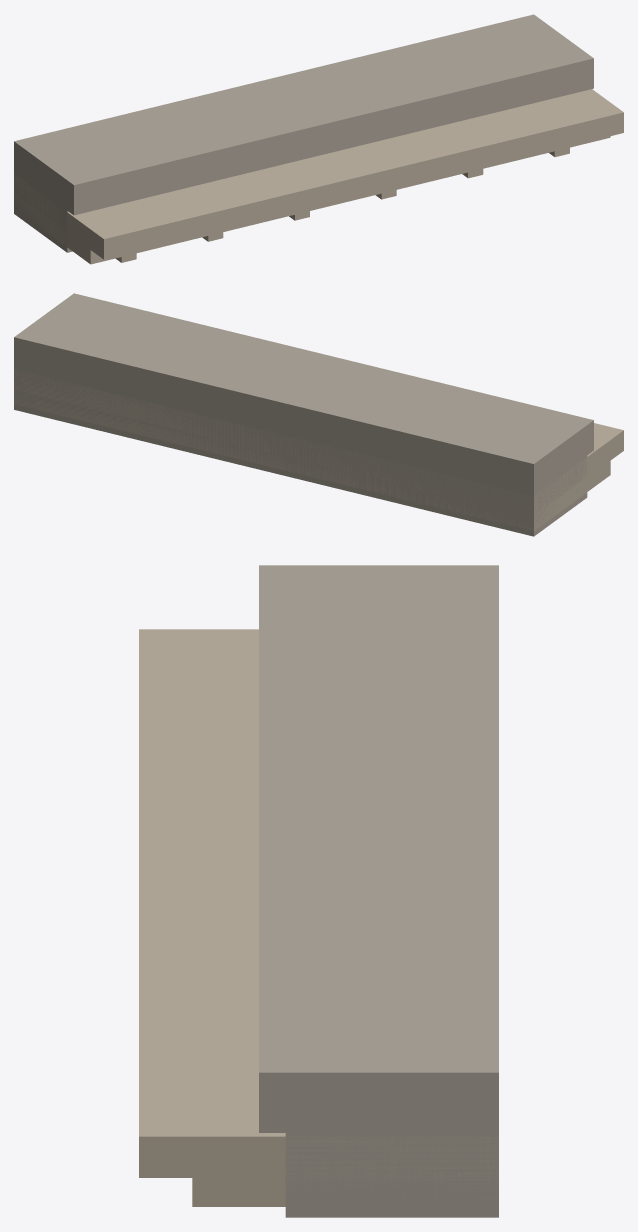
Rendered from cittaTortoraTetto.glb.
3 views of the same model, one above another, from view 1: azimuth 30°, elevation 25°; view 2: azimuth 150°, elevation 25°; view 3: azimuth 270°, elevation 25° (orthographic). The views are drawn at different scales.
Parts seen in each view (by area): view 1: cittaTortoraTetto_cittaTortora, cittaTortoraTetto_stone; view 2: cittaTortoraTetto_cittaTortora, cittaTortoraTetto_stone; view 3: cittaTortoraTetto_cittaTortora, cittaTortoraTetto_stone.
Boxes of the visible parts, box(x1,y1,x2,y2) form: cittaTortoraTetto_cittaTortora: box(14, 14, 593, 252); cittaTortoraTetto_stone: box(14, 89, 623, 264); cittaTortoraTetto_cittaTortora: box(14, 293, 593, 536); cittaTortoraTetto_stone: box(14, 369, 623, 530); cittaTortoraTetto_cittaTortora: box(259, 565, 498, 1217); cittaTortoraTetto_stone: box(139, 629, 498, 1206).
Size of the model in its own units: 9 by 1.29 by 2.7.
